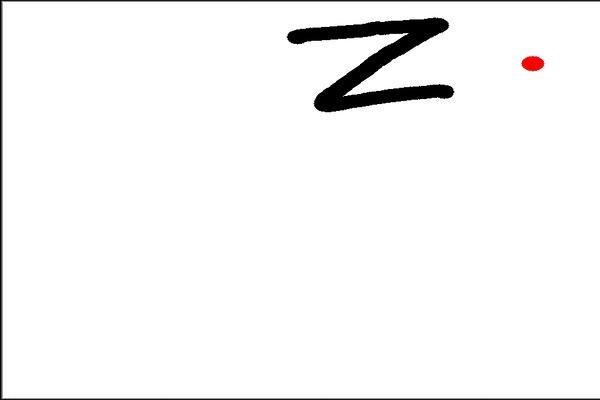Z: (286, 12, 463, 115)
